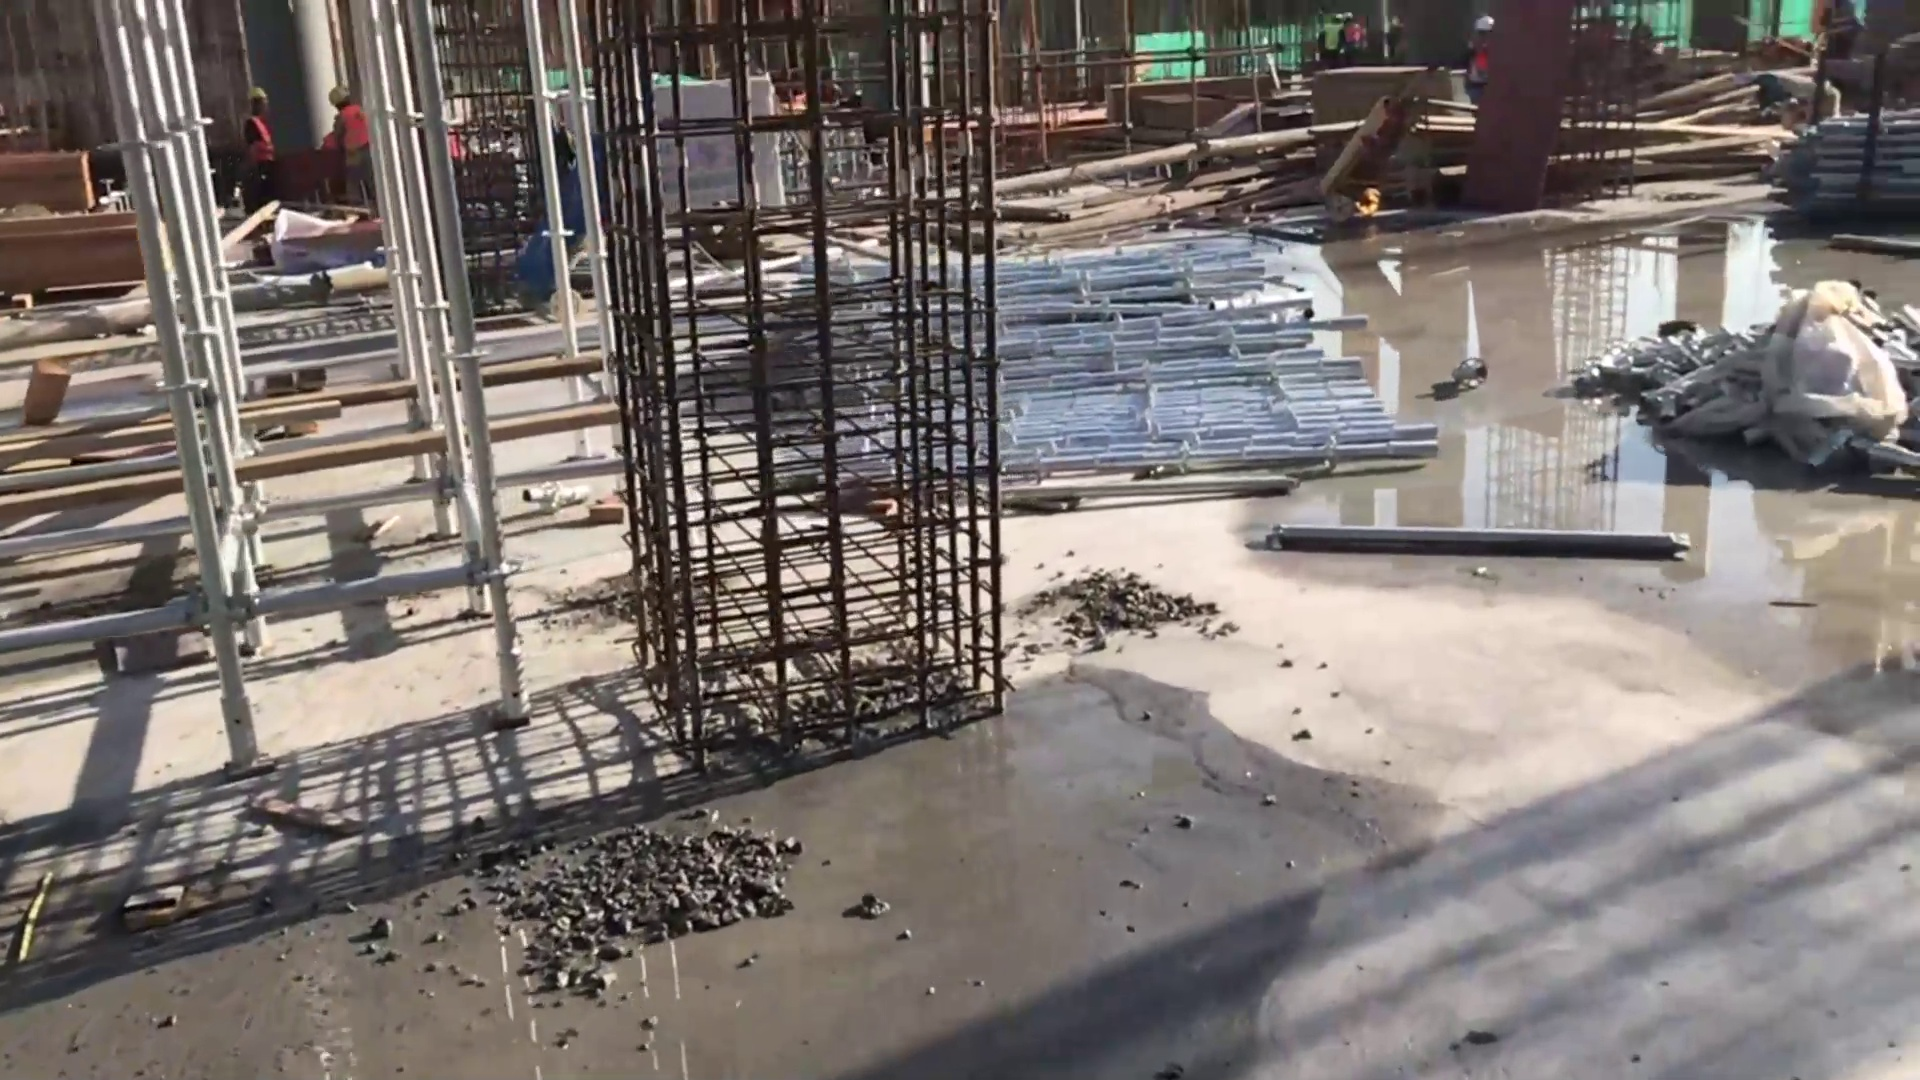helmet: (326, 85, 351, 104), (247, 88, 267, 98)
person: (331, 88, 389, 215), (236, 84, 281, 208)
scaffold: (993, 247, 1447, 480), (1780, 114, 1893, 226)
wood: (1633, 80, 1770, 176)
